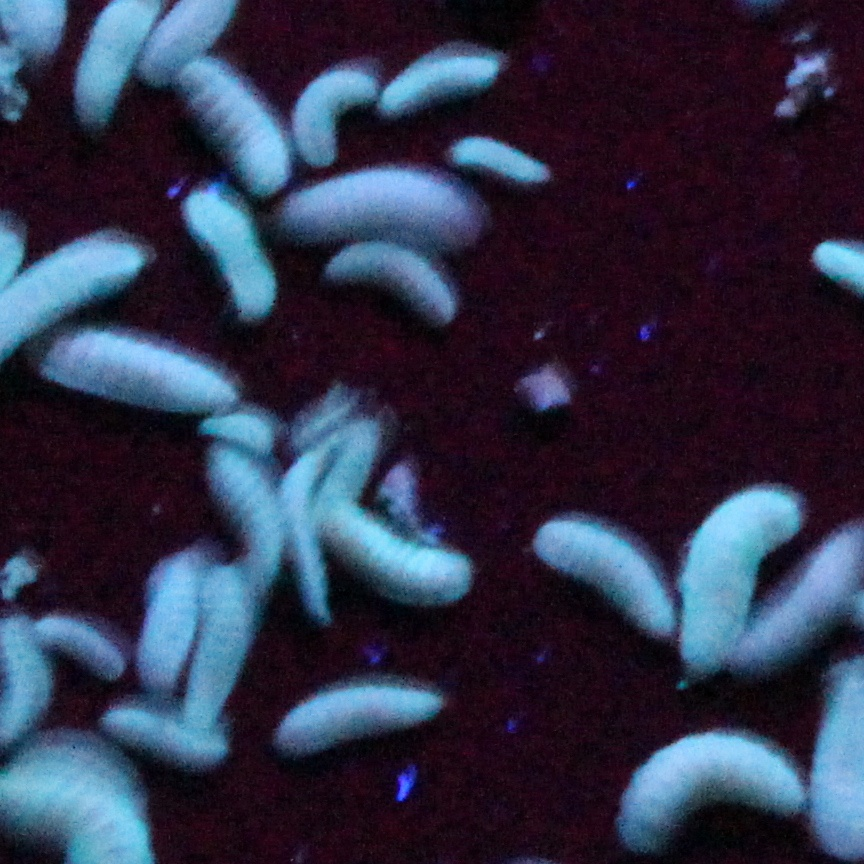larve: (680, 487, 802, 667), (614, 733, 802, 849), (318, 497, 471, 605), (40, 332, 237, 412), (534, 521, 672, 635), (180, 60, 288, 194), (288, 169, 475, 244), (183, 191, 276, 316), (206, 448, 278, 594), (281, 687, 442, 752), (327, 245, 453, 323), (196, 565, 252, 733), (280, 442, 329, 621), (292, 72, 376, 165), (140, 556, 197, 690), (103, 707, 222, 764), (382, 58, 496, 114), (34, 617, 126, 682), (451, 138, 547, 183), (318, 422, 378, 494), (201, 414, 273, 455)
